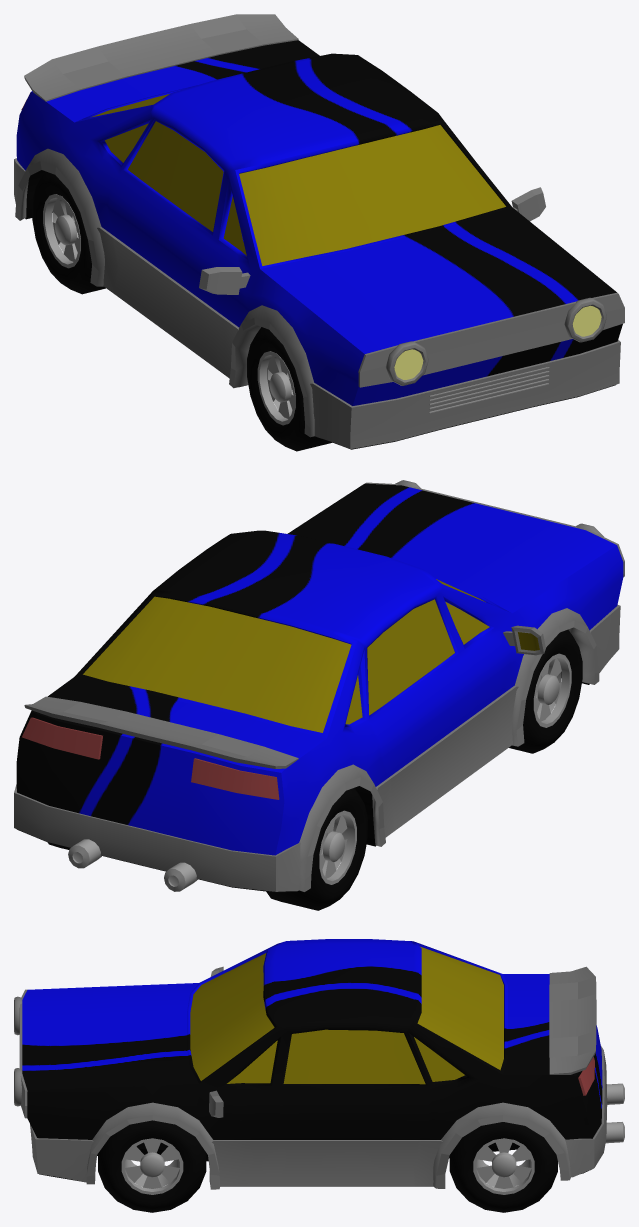
Rendered from Muscle Evolution2 Grey WaveBlackBlue DarkYellow LightGrey.glb.
3 views of the same model, one above another, from view 1: azimuth 30°, elevation 25°; view 2: azimuth 150°, elevation 25°; view 3: azimuth 270°, elevation 25° (orthographic). The views are drawn at different scales.
Visible parts, largest first — view 1: evo2_body2_f1_dupl, evo2_frontGlass_f1_dupl, evo2_sill2_f1_dupl, evo2_spoiler2_f1_dupl, evo2_front_square2_f1_dupl, evo2_glasseBigR_f1_dupl, evo2_mudguardFR_f1_dupl, evo2_mudguardbR_f1_dupl, evo2_tire_rf1_f1_dupl, evo2_tire_rf_f1_dupl, evo2_rim_A_rf_f1_dupl, evo2_rim_A_rb_f1_dupl (+9 smaller); view 2: evo2_body2_f1_dupl, evo2_BackGlassGlass_f1_dupl, evo2_sill2_f1_dupl, evo2_spoiler2_f1_dupl, evo2_glasseBigR_f1_dupl, evo2_tire_rf_f1_dupl, evo2_mudguardbR_f1_dupl, evo2_mudguardFR_f1_dupl, evo2_tire_rf1_f1_dupl, evo2_rim_A_rf_f1_dupl, evo2_rim_A_rb_f1_dupl, evo2_redlightR2_f1_dupl (+5 smaller); view 3: evo2_body2_f1_dupl, evo2_sill2_f1_dupl, evo2_BackGlassGlass_f1_dupl, evo2_glasseBigL_f1_dupl, evo2_frontGlass_f1_dupl, evo2_tire_lf_f1_dupl, evo2_tire_lb_f1_dupl, evo2_spoiler2_f1_dupl, evo2_mudguardBL_f1_dupl, evo2_mudguardFL_f1_dupl, evo2_rim_A_lf_f1_dupl, evo2_rim_A_lb_f1_dupl (+4 smaller).
Part boxes in pixels (box(x1,y1,x2,y2)): evo2_body2_f1_dupl: box(16, 40, 622, 405); evo2_frontGlass_f1_dupl: box(239, 125, 505, 265); evo2_sill2_f1_dupl: box(14, 158, 620, 449); evo2_spoiler2_f1_dupl: box(24, 14, 298, 101); evo2_front_square2_f1_dupl: box(358, 292, 624, 387); evo2_glasseBigR_f1_dupl: box(128, 121, 223, 231); evo2_mudguardFR_f1_dupl: box(229, 305, 314, 437); evo2_mudguardbR_f1_dupl: box(15, 148, 104, 286); evo2_tire_rf1_f1_dupl: box(247, 327, 331, 451); evo2_tire_rf_f1_dupl: box(32, 171, 105, 294); evo2_rim_A_rf_f1_dupl: box(257, 351, 295, 425); evo2_rim_A_rb_f1_dupl: box(43, 194, 80, 268); evo2_body2_f1_dupl: box(16, 483, 623, 855); evo2_BackGlassGlass_f1_dupl: box(83, 596, 351, 732); evo2_sill2_f1_dupl: box(14, 605, 620, 891); evo2_spoiler2_f1_dupl: box(24, 696, 298, 768); evo2_glasseBigR_f1_dupl: box(367, 599, 454, 715); evo2_tire_rf_f1_dupl: box(266, 787, 367, 910); evo2_mudguardbR_f1_dupl: box(299, 764, 385, 891); evo2_mudguardFR_f1_dupl: box(512, 608, 599, 746); evo2_tire_rf1_f1_dupl: box(509, 629, 582, 753); evo2_rim_A_rf_f1_dupl: box(533, 653, 571, 727); evo2_rim_A_rb_f1_dupl: box(319, 810, 356, 884); evo2_redlightR2_f1_dupl: box(191, 758, 279, 799); evo2_body2_f1_dupl: box(22, 939, 602, 1159); evo2_sill2_f1_dupl: box(30, 1045, 607, 1186); evo2_BackGlassGlass_f1_dupl: box(417, 946, 503, 1070); evo2_glasseBigL_f1_dupl: box(283, 1029, 425, 1084); evo2_frontGlass_f1_dupl: box(190, 953, 274, 1080); evo2_tire_lf_f1_dupl: box(98, 1120, 206, 1212); evo2_tire_lb_f1_dupl: box(449, 1122, 557, 1212); evo2_spoiler2_f1_dupl: box(549, 966, 596, 1074); evo2_mudguardBL_f1_dupl: box(433, 1102, 570, 1188); evo2_mudguardFL_f1_dupl: box(86, 1102, 220, 1189); evo2_rim_A_lf_f1_dupl: box(121, 1138, 183, 1194); evo2_rim_A_lb_f1_dupl: box(473, 1138, 534, 1194).
Bounding box in the file's own units: 177 × 112 × 331.
7 materials, 1 textured.
